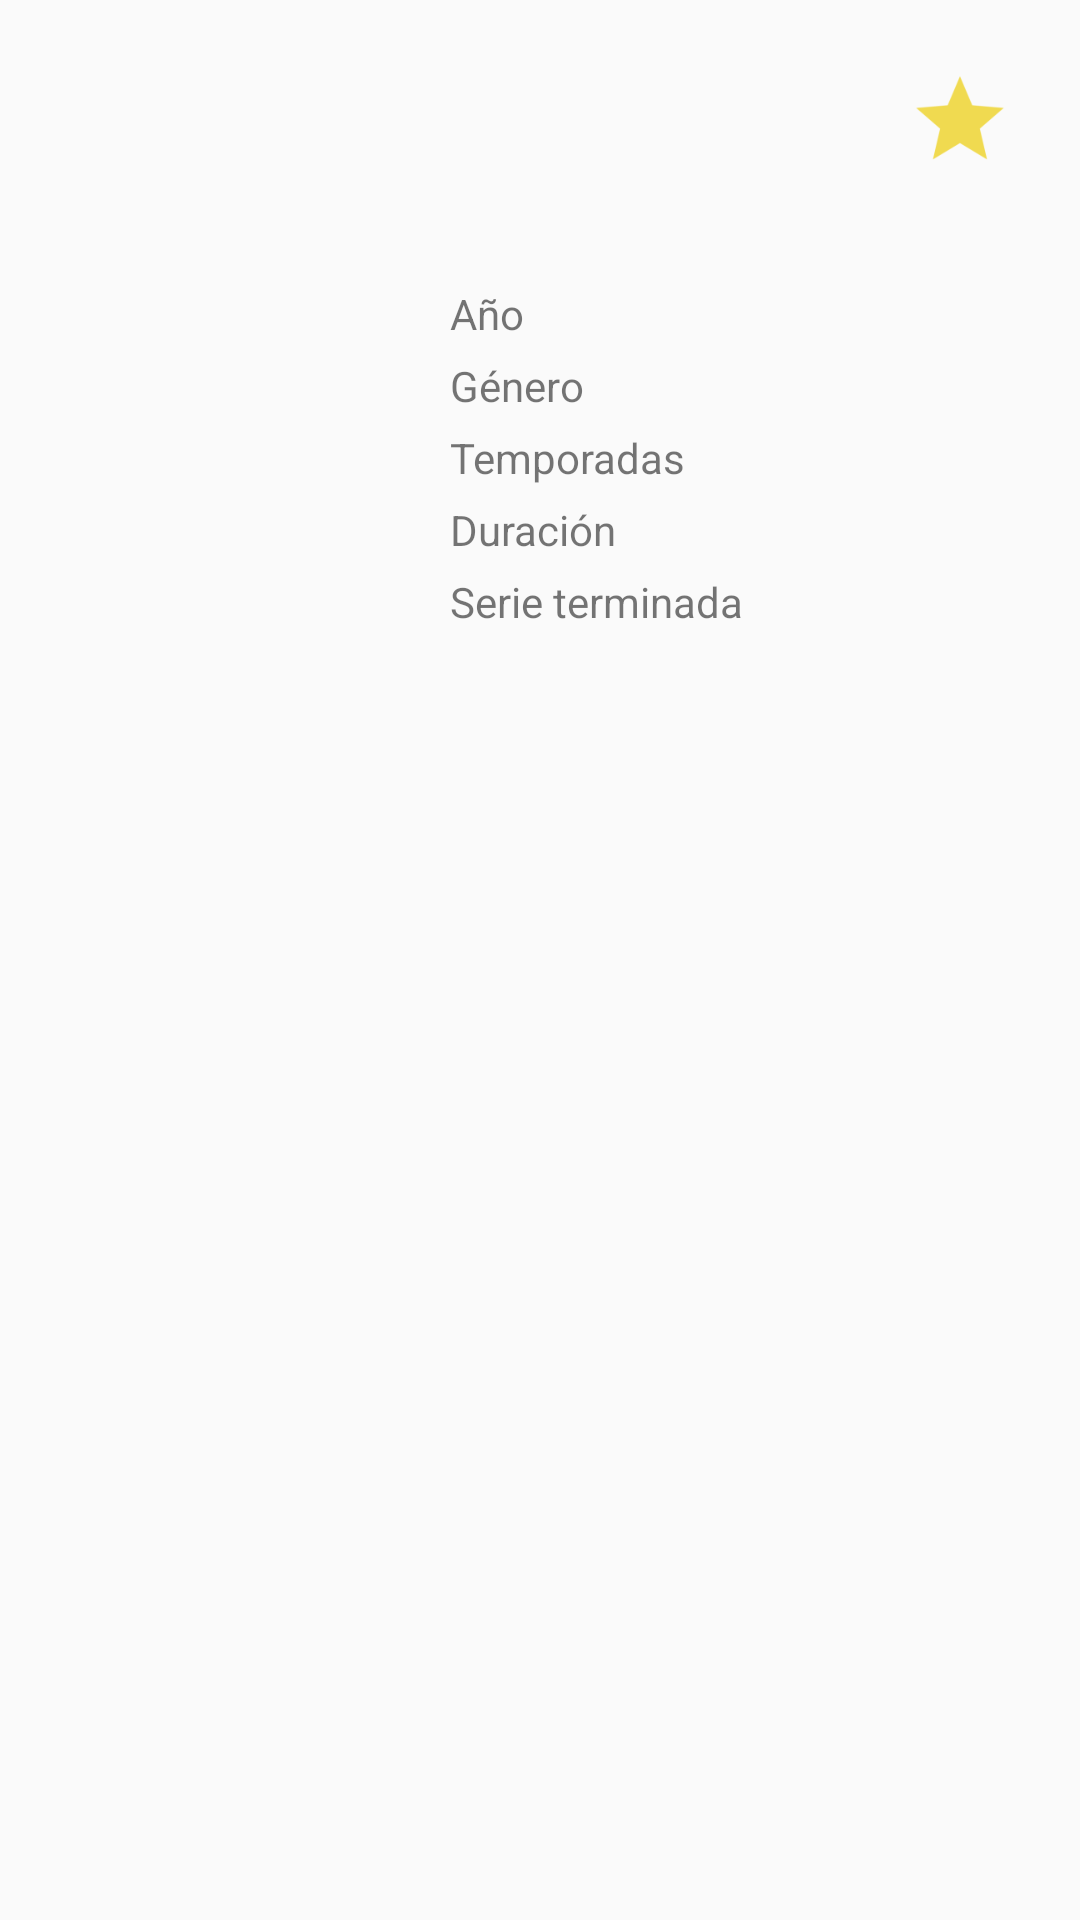

Named icons in this screenshot (1080px×1920px) and their bounding boxes, (x1=x1, y1=y1, x2=x2, y2=y2):
rating: (x1=916, y1=76, x2=1004, y2=159)
